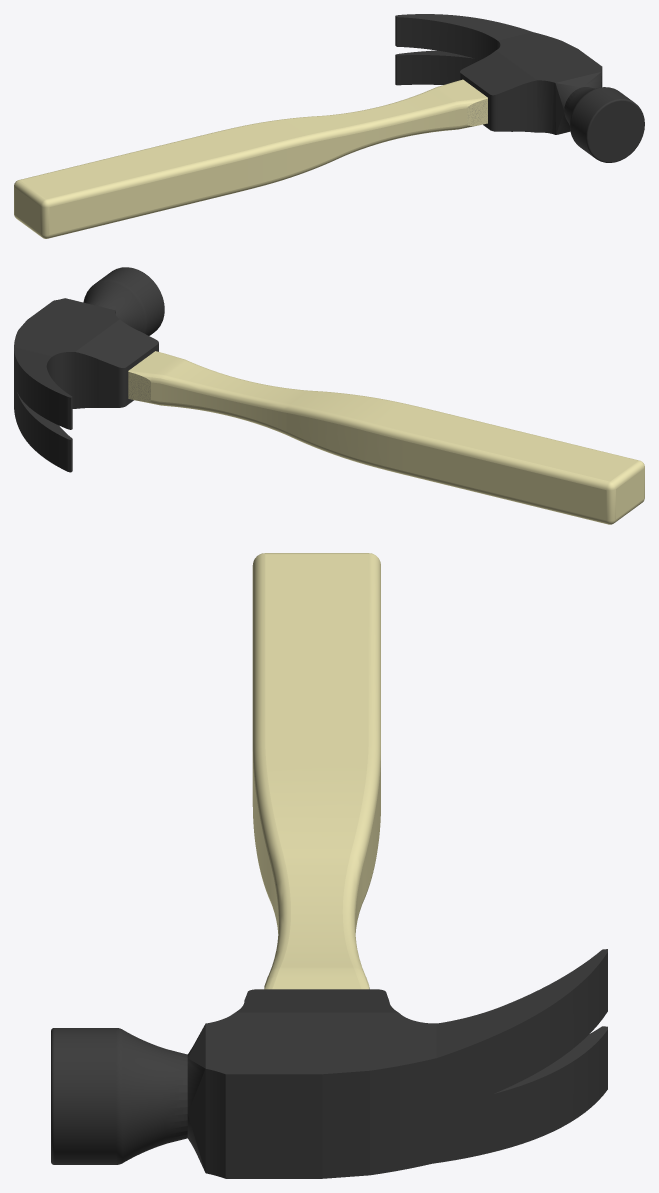
The model's file is hammer_01_origin.dae.
3 views of the same model, one above another, from view 1: azimuth 30°, elevation 25°; view 2: azimuth 150°, elevation 25°; view 3: azimuth 270°, elevation 25° (orthographic). The views are drawn at different scales.
Visible parts, largest first — view 1: group_0 (×2), group_1; view 2: group_0 (×2), group_1; view 3: group_1, group_0.
Boxes of the visible parts, box(x1,y1,x2,y2) form: group_0 (×2): box(14, 79, 487, 238); group_1: box(395, 14, 644, 162); group_0 (×2): box(128, 351, 644, 524); group_1: box(14, 267, 164, 472); group_1: box(51, 949, 607, 1178); group_0: box(252, 553, 380, 989).
Bounding box in the file's own units: 13.3 × 5.81 × 1.58.
